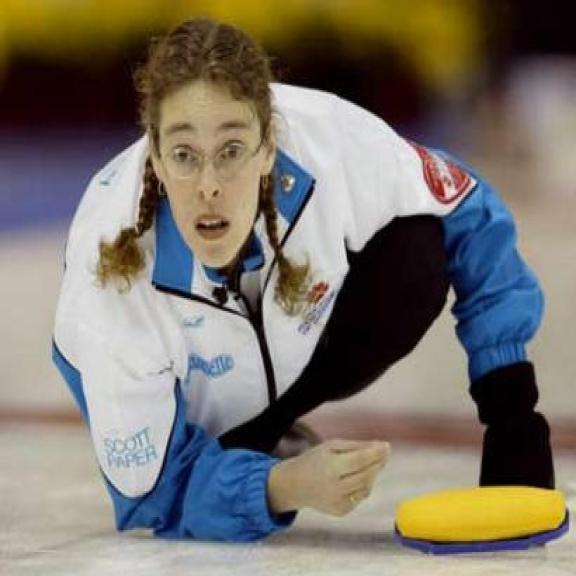face: (144, 85, 277, 273)
